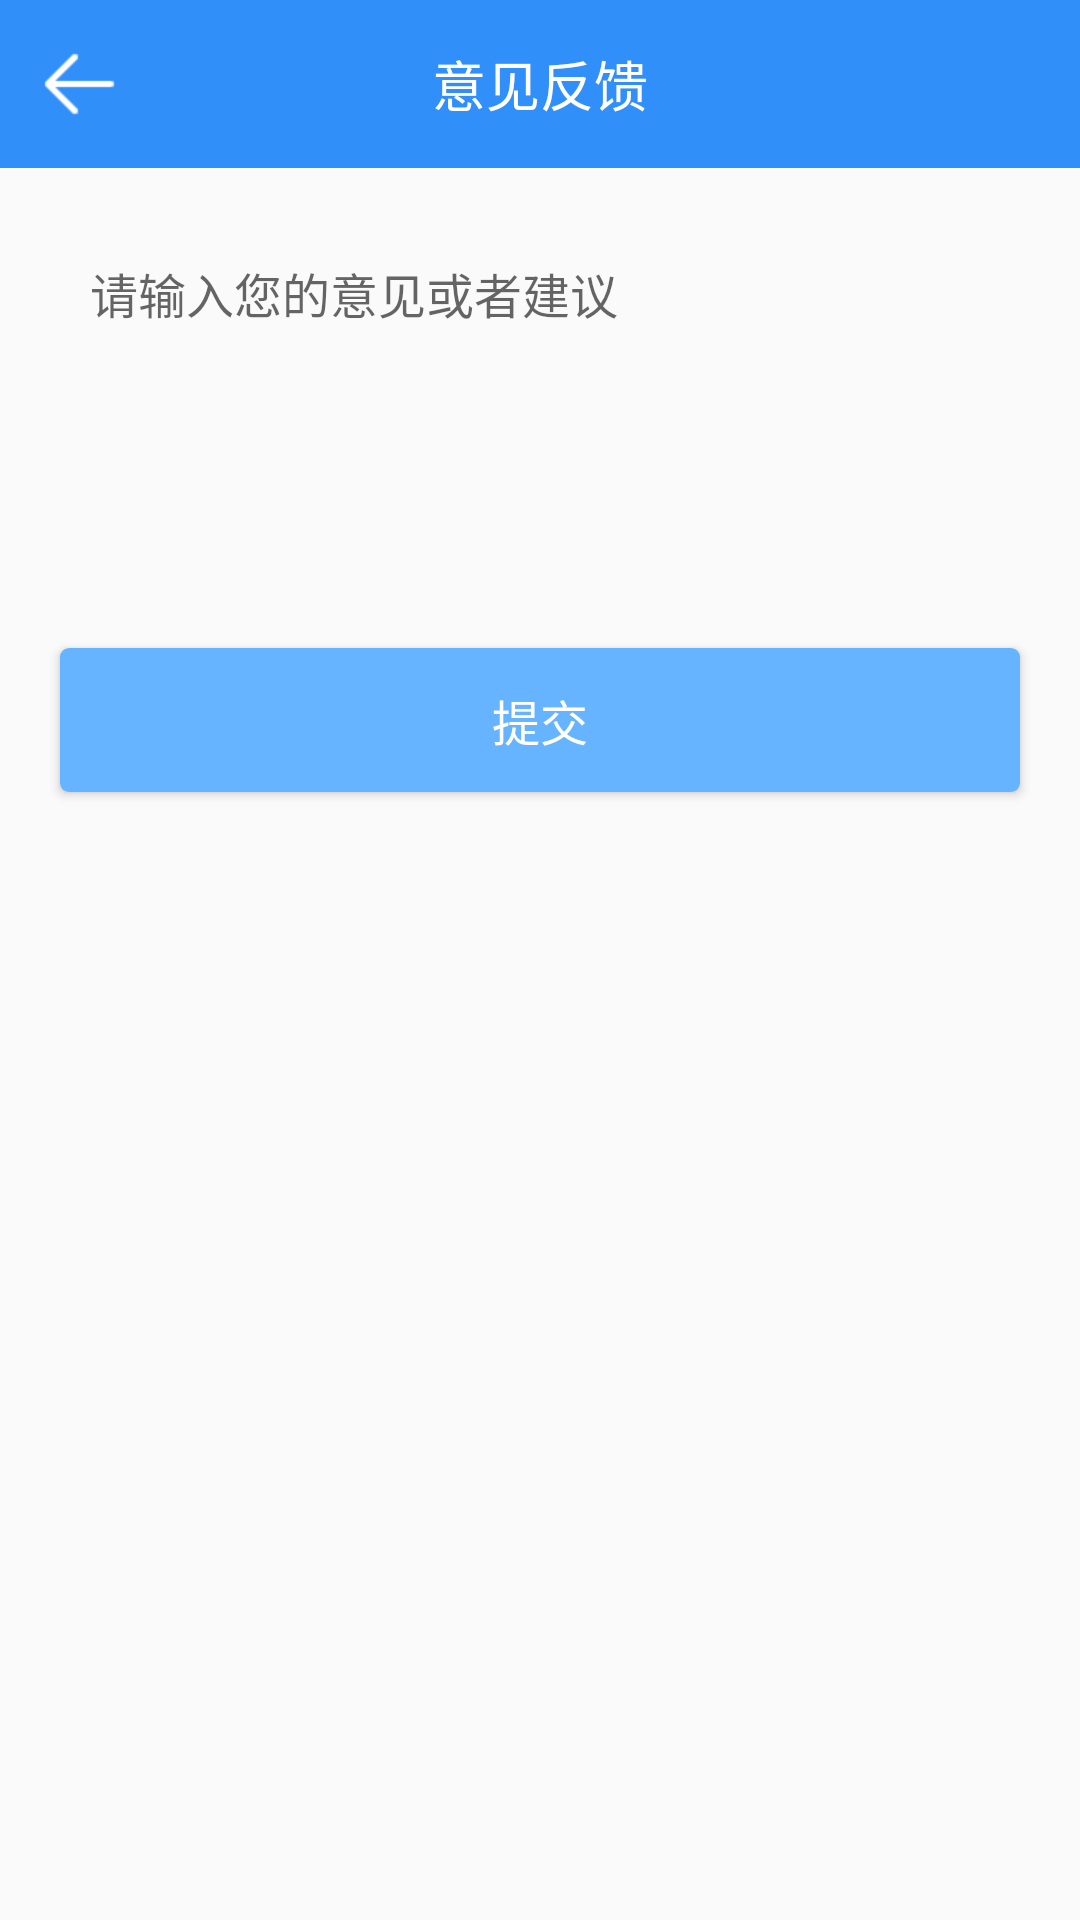

Point at icon controls on the screen. Image size 1080px x 1920px, points as (x,y).
back: (79,84)
